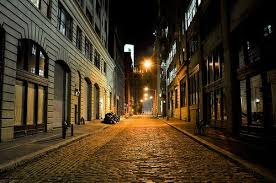strada: (5, 89, 257, 179)
